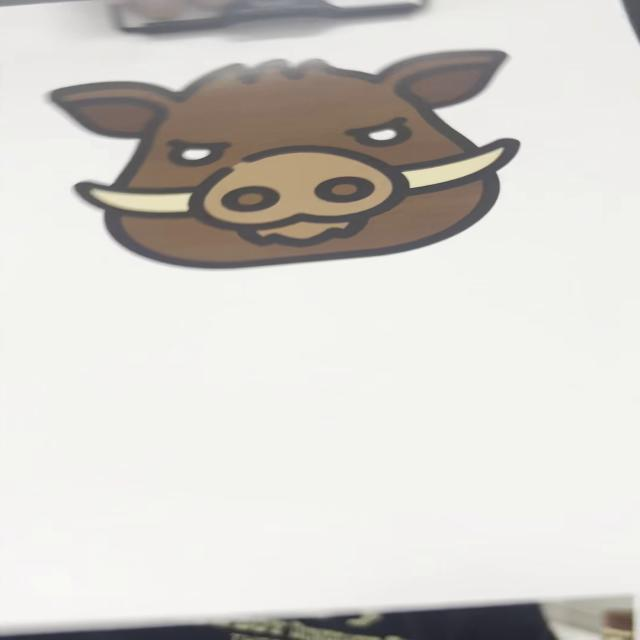animal: (47, 45, 554, 272)
